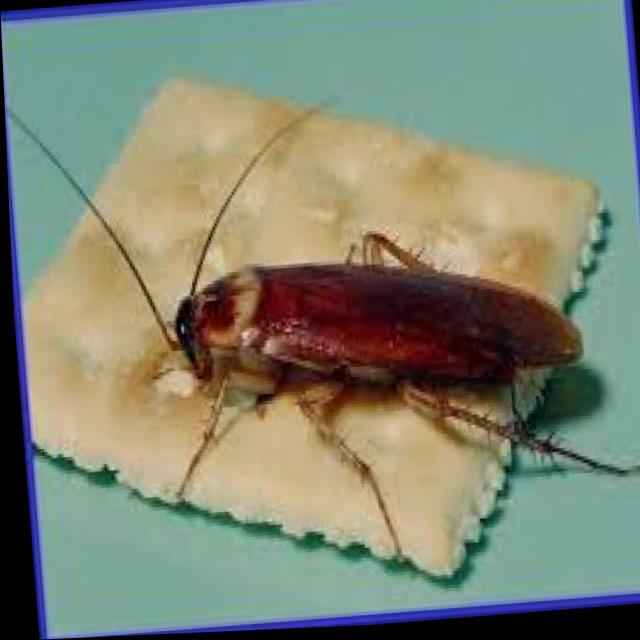Cockroach: (3, 53, 640, 602)
